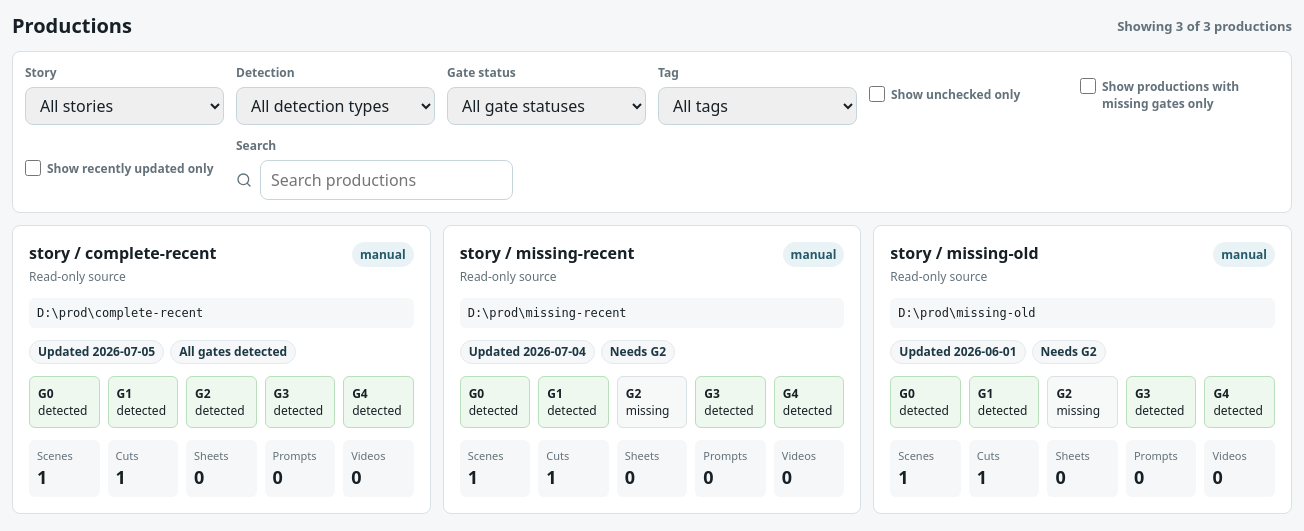
Test: ProductionList › filters productions by missing gates and recently updated state
Click the checkbox labelled "Show productions with missing gates only": (1088, 86) [1080,78,1096,94]
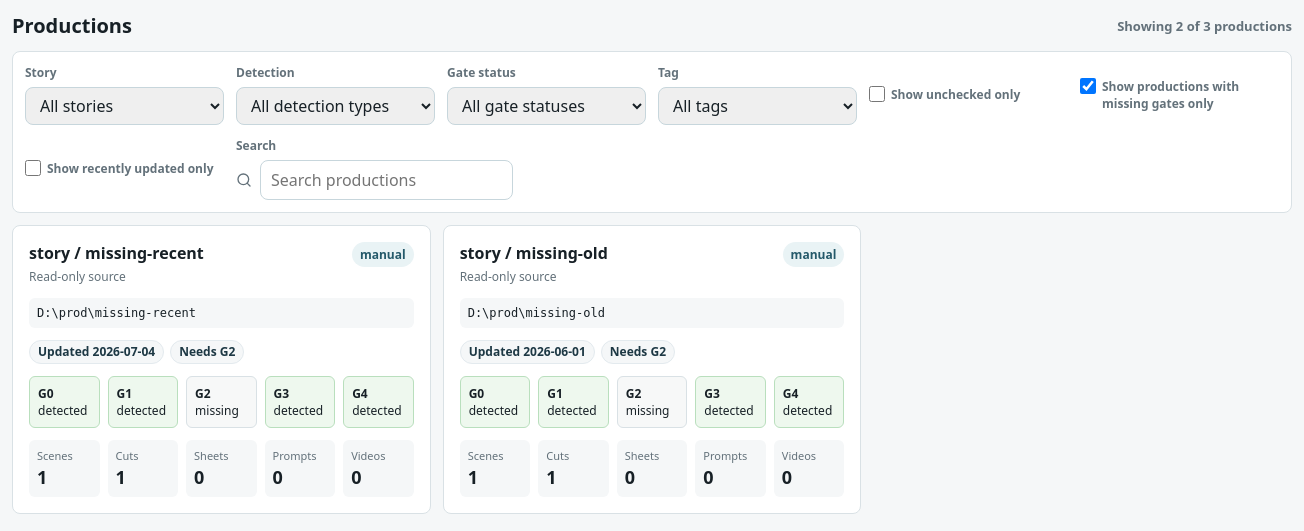
Expected: the heading "story / missing-recent" is shown, [29,242,204,264]
Expected: the text "Showing 2 of 3 productions" is shown, [1117,16,1292,34]
Expected: the heading "story / complete-recent" is gone
Click the checkbox labelled "Show recently updated only": (33, 168) [25,160,41,176]
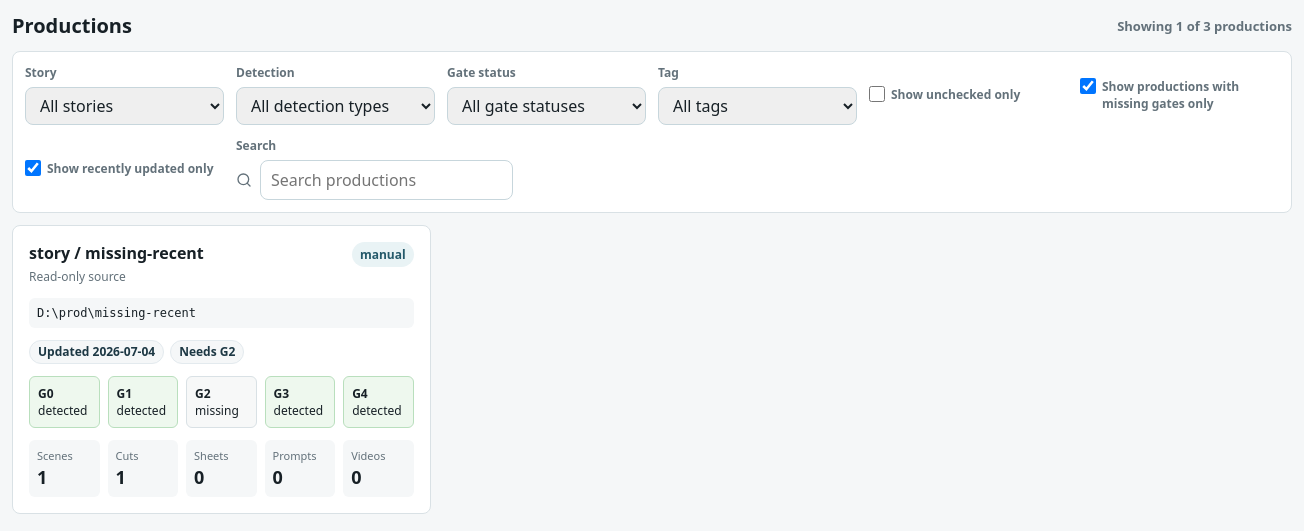
Expected: the heading "story / missing-recent" is shown, [29,242,204,264]
Expected: the text "Showing 1 of 3 productions" is shown, [1117,16,1292,34]
Expected: the heading "story / missing-old" is gone
